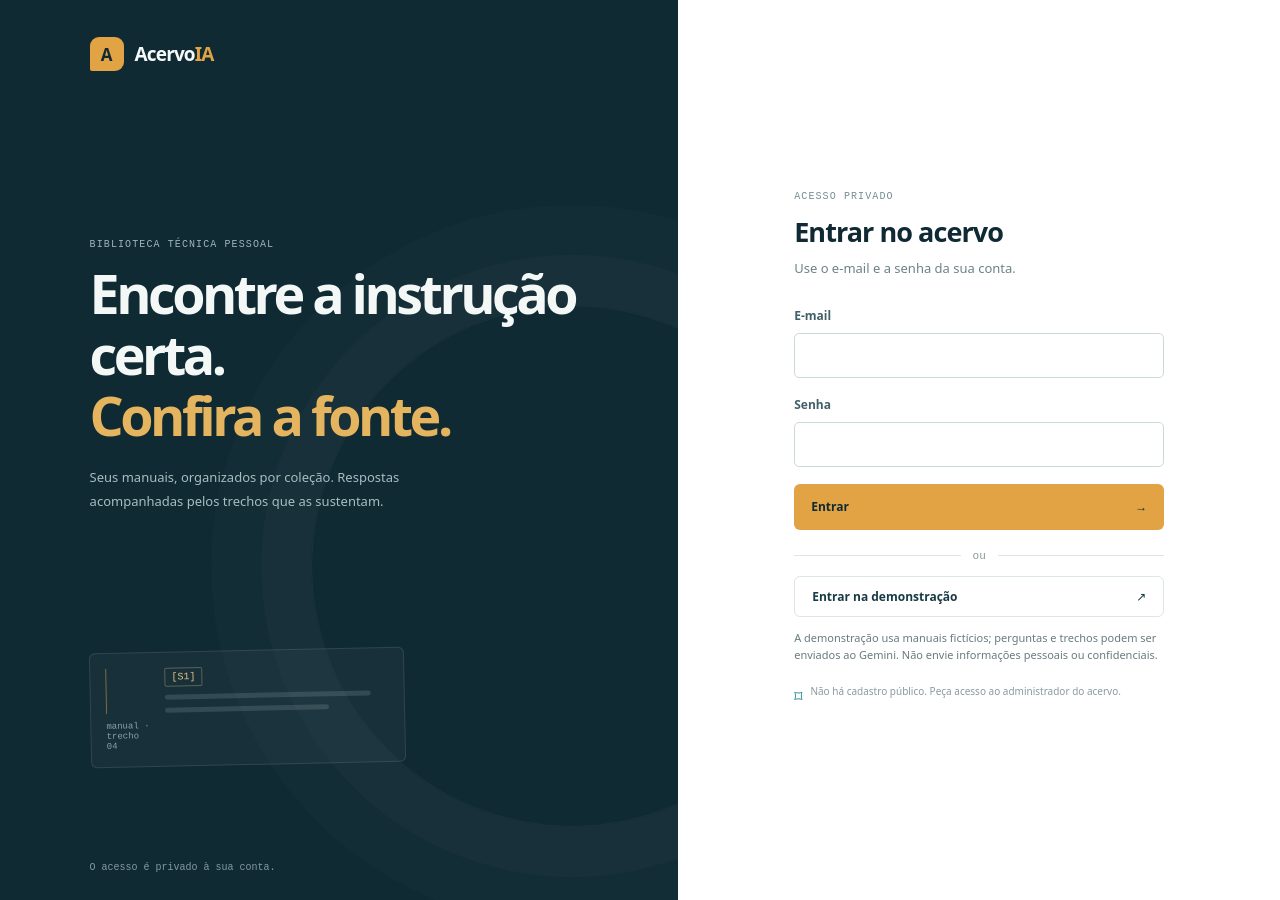
Test: AcervoIA web flows › clears a newly issued token when the authenticated session cannot be confirmed
Type "tecnica@example.test" into the field labelled "E-mail" at (979, 355), box [794,333,1164,378]
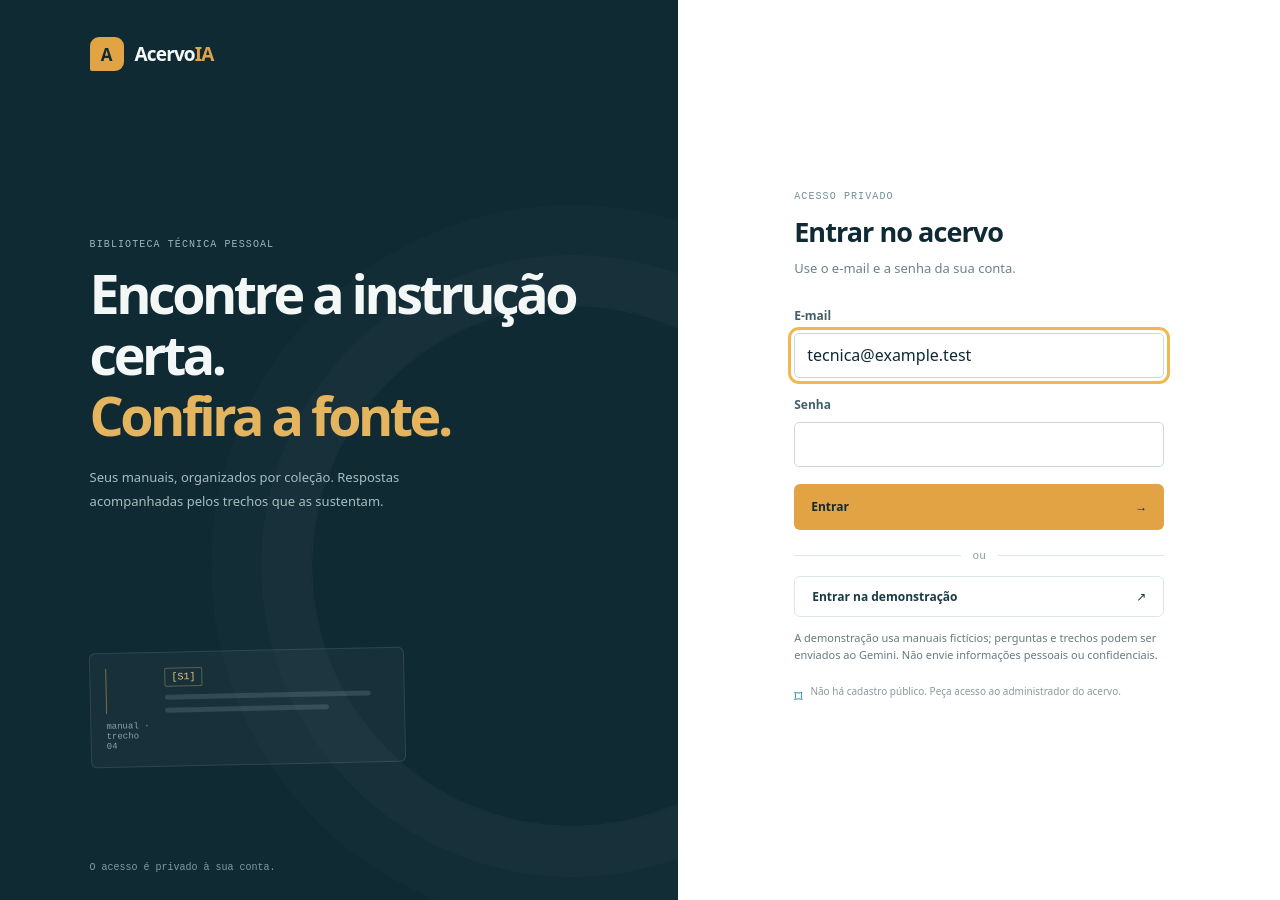
Type "private-password" into the password field labelled "Senha" at (979, 444), box [794,422,1164,467]
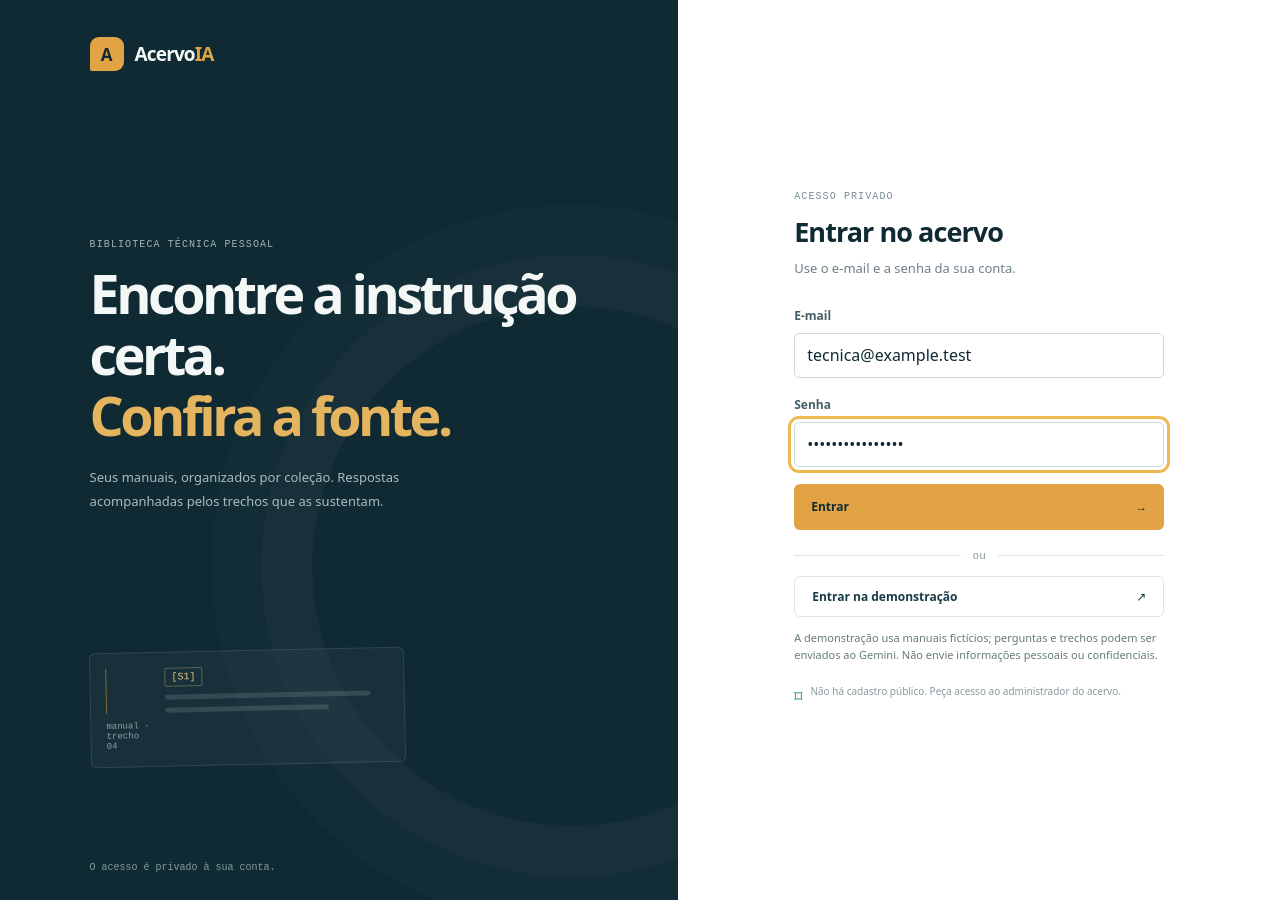
Click the button "Entrar →" at (830, 507), box [794,484,1164,530]
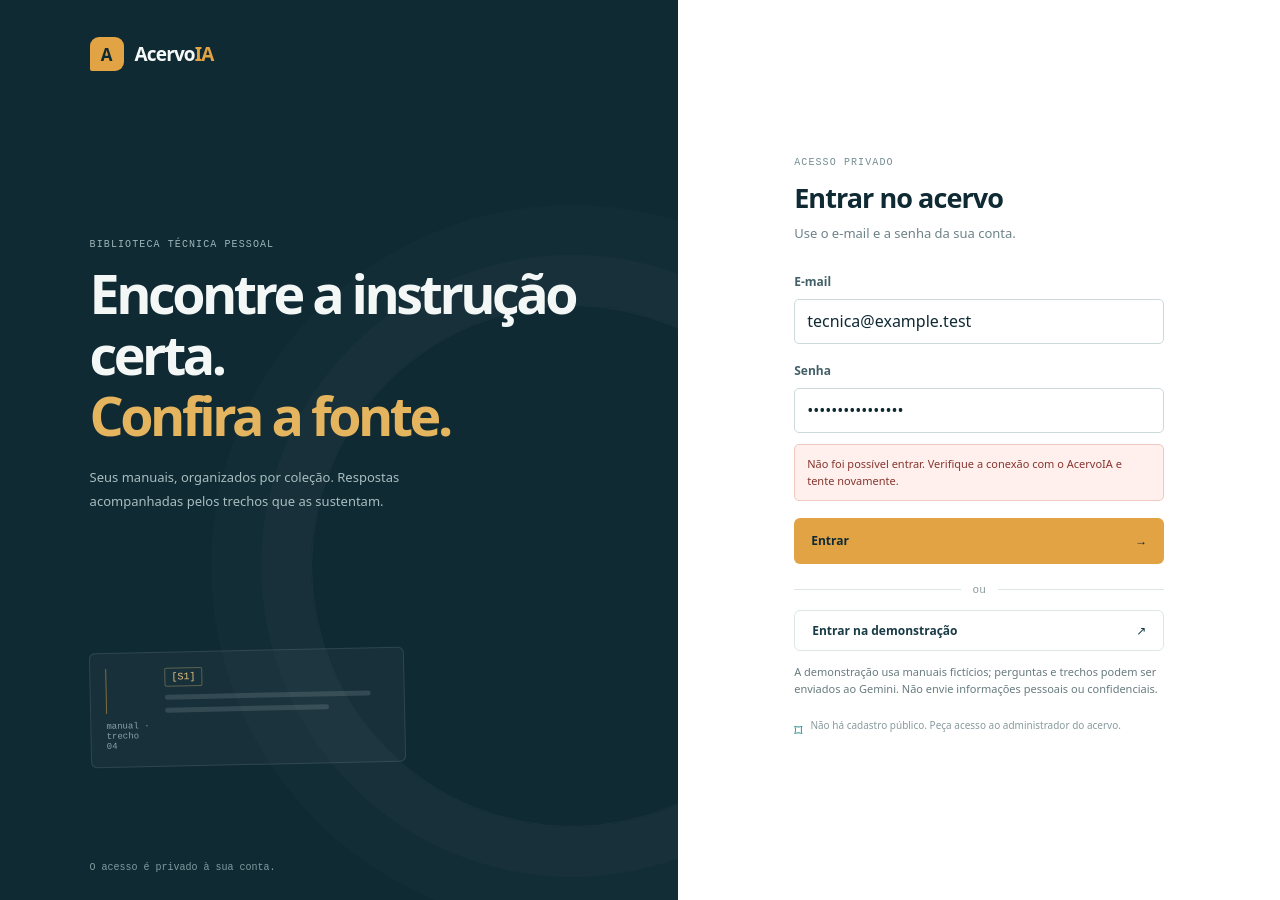
Expected: the message shows "Não foi possível entrar", [807,456,1122,488]
